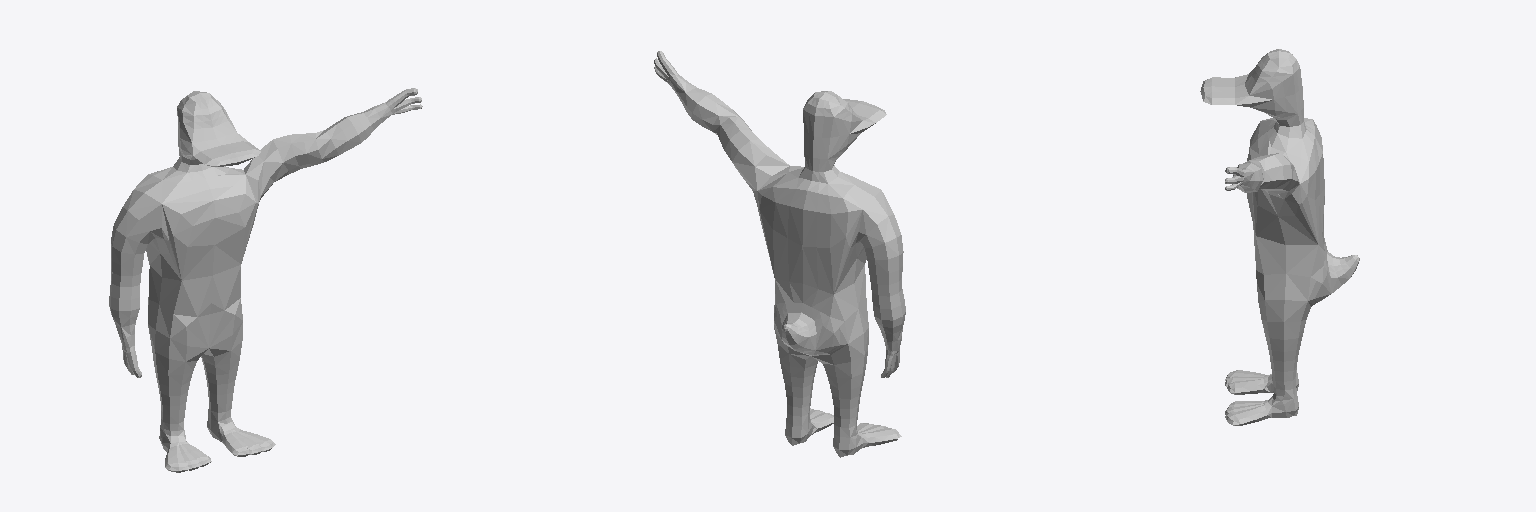
File: canard_000019.obj
The picture shows the model from 3 angles: view 1: azimuth 30°, elevation 25°; view 2: azimuth 150°, elevation 25°; view 3: azimuth 270°, elevation 25°; orthographic projection.
Parts seen in each view (by area): view 1: Cube; view 2: Cube; view 3: Cube.
Boxes of the visible parts, box(x1,y1,x2,y2) form: Cube: box(109, 88, 422, 472); Cube: box(654, 51, 905, 457); Cube: box(1200, 49, 1359, 425).
Size of the model in its own units: 2.32 by 2.8 by 1.14.